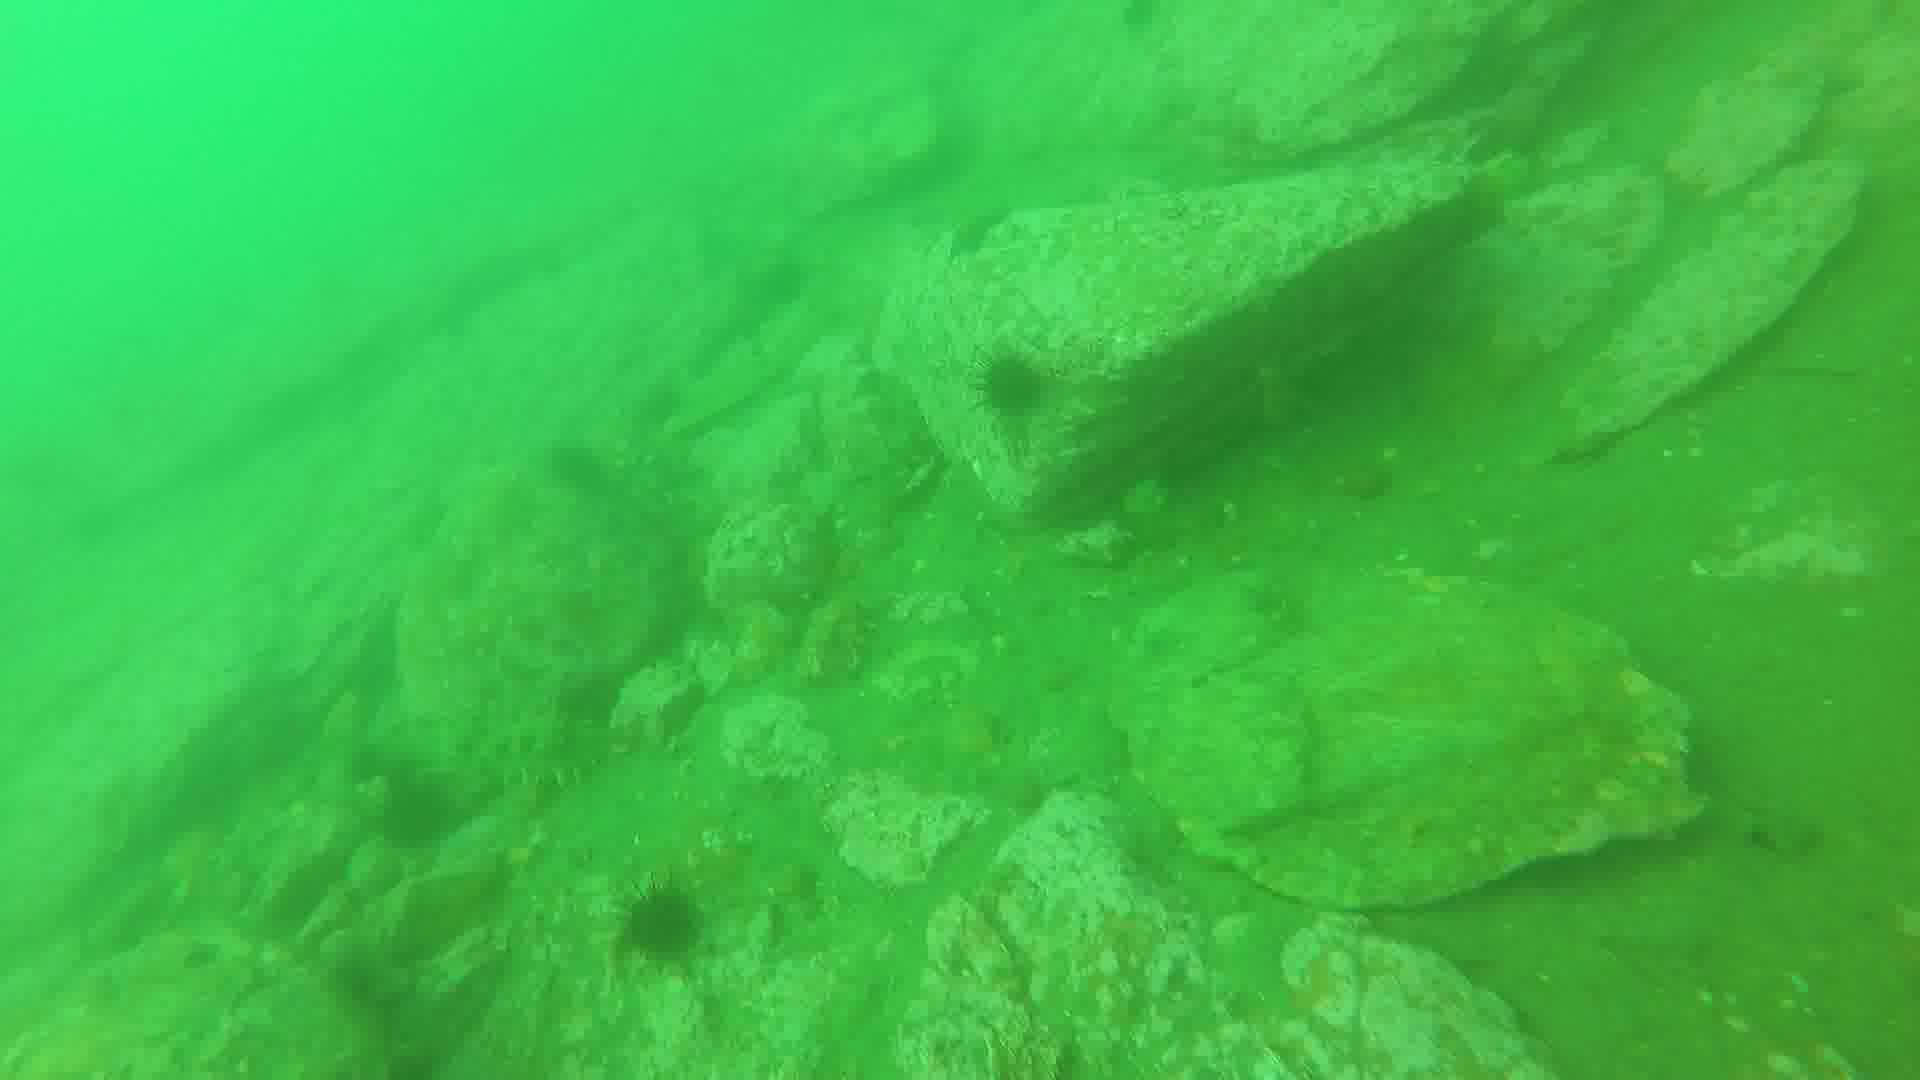echinus: (969, 351, 1062, 427), (622, 895, 713, 969), (1118, 1, 1174, 40)
holothurian: (465, 719, 636, 790)
